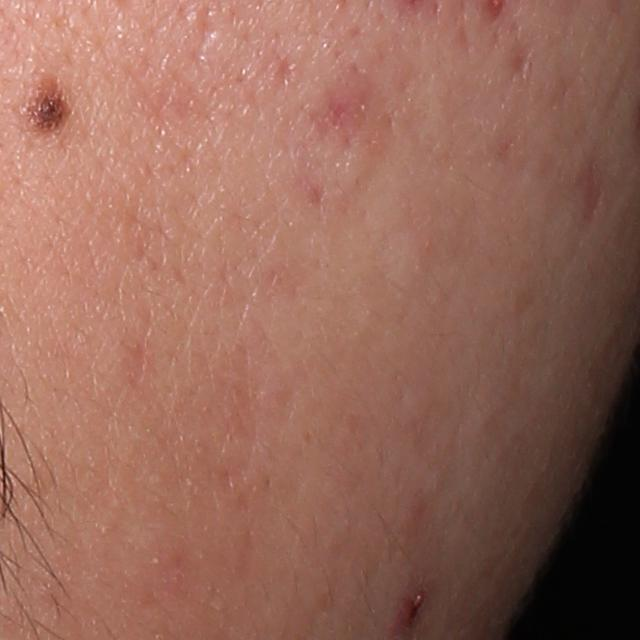atrophic_scar: (571, 146, 610, 239), (506, 42, 535, 81)
nevus: (24, 69, 75, 143)
